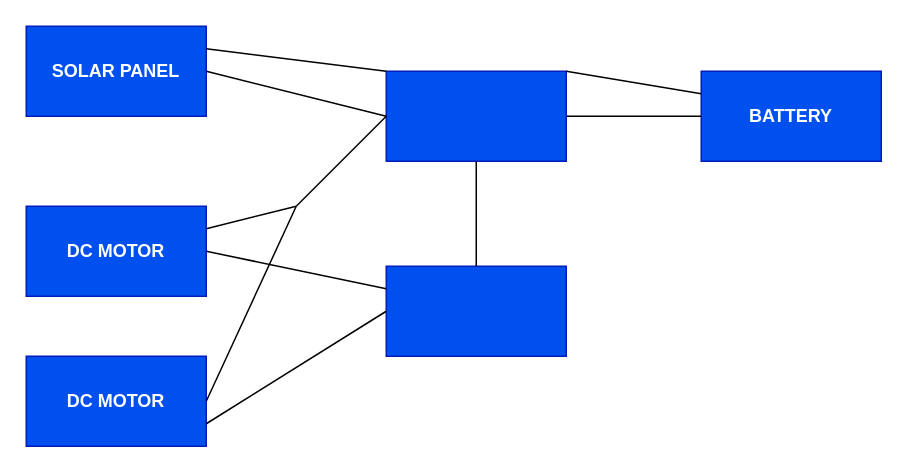
Image size: 908x473. Some labels were removed from this diagram. Each missing label, with the centre of its shape:
CHARGING MODULE: point 475,115
SWITCH: point 475,310
